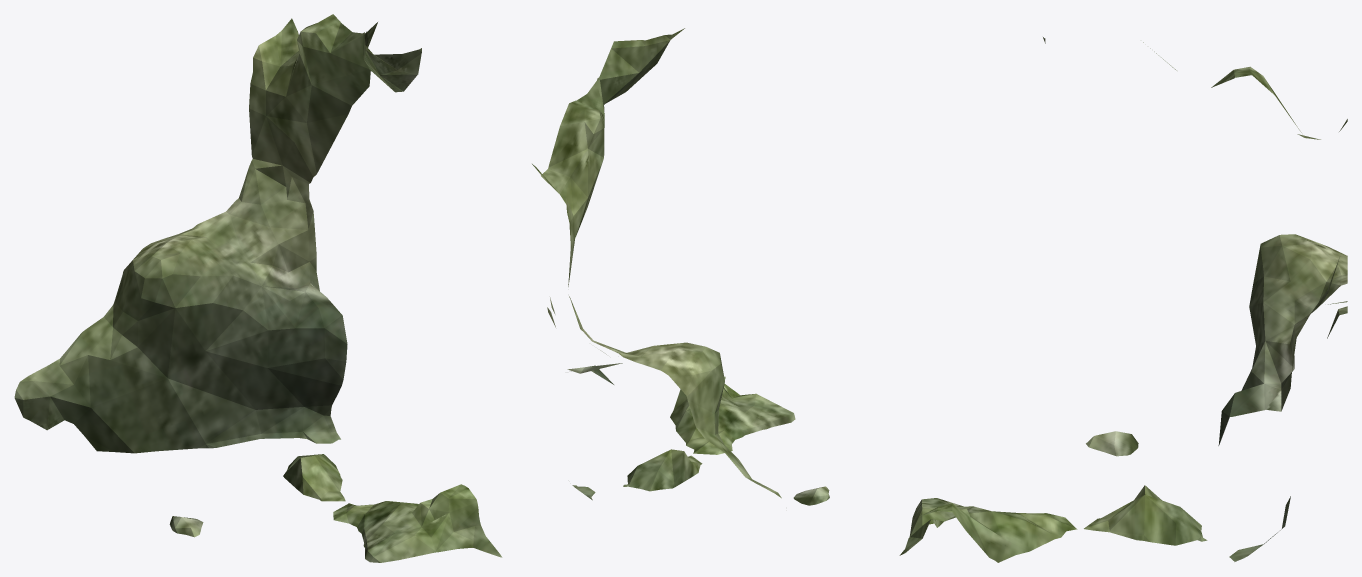
3 renders of one model, left to right at view 1: azimuth 30°, elevation 25°; view 2: azimuth 150°, elevation 25°; view 3: azimuth 270°, elevation 25°, orthographic. The views are drawn at different scales.
Bounding box in the file's own units: 1.9 × 2.95 × 2.49.
Materials: 1 (1 with a texture image).
